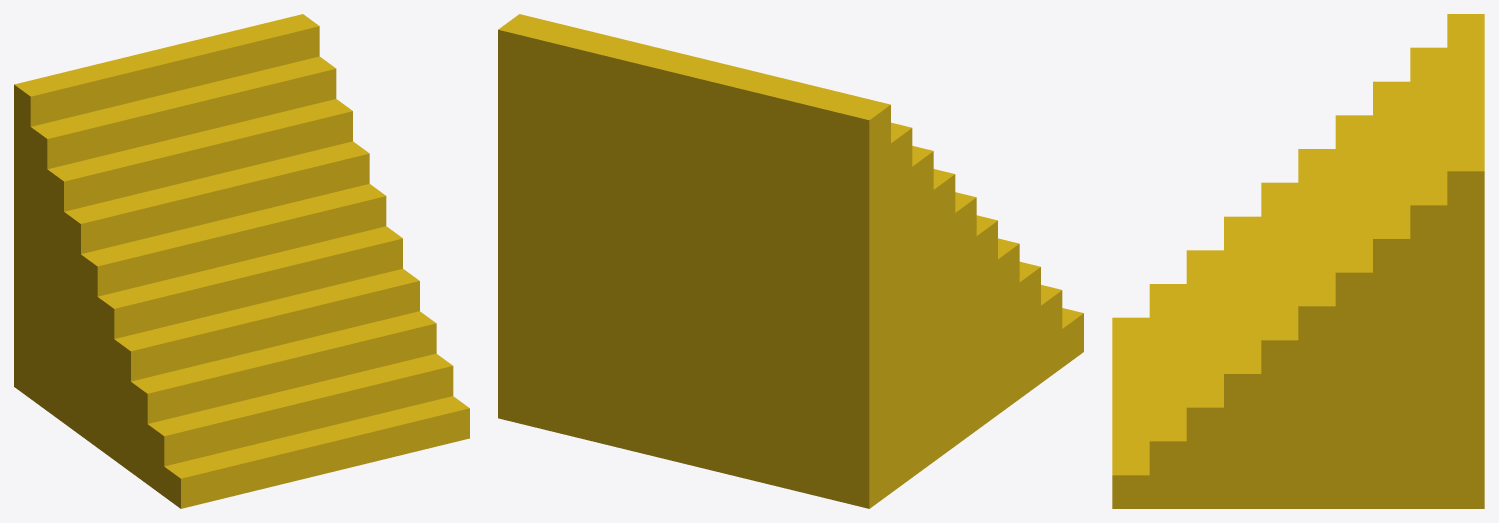
File: path_yellow_stair_2.obj
The picture shows the model from 3 angles, left to right: view 1: azimuth 30°, elevation 25°; view 2: azimuth 150°, elevation 25°; view 3: azimuth 270°, elevation 25°; orthographic projection. The views are drawn at different scales.
Size of the model in its own units: 2 by 2 by 2.
Materials: 1 (1 with a texture image).
